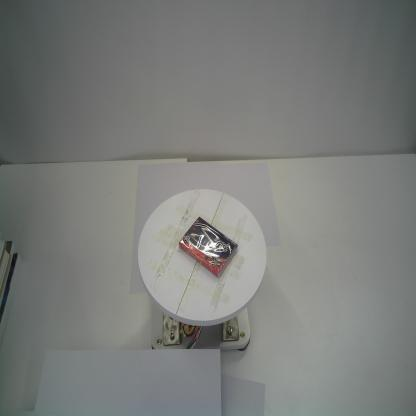Gum: (178, 216, 238, 279)
